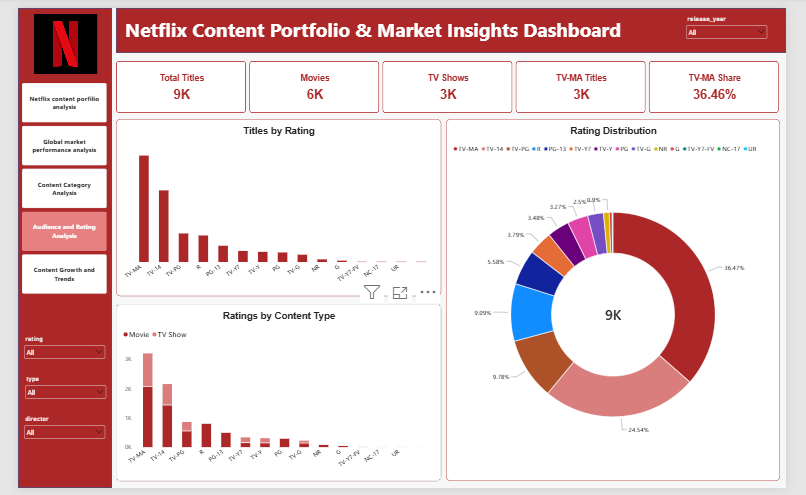

What the dashboard file says about the page in this screenshot:
{"tool":"powerbi","page":{"name":"Audience and Rating Analysis","canvas":[1920,1200],"ordinal":3},"visuals":[{"type":"shape","box":[245,0,1675,112.5],"z":0},{"type":"shape","box":[0,0,235,1200],"z":1000},{"type":"cardVisual","fields":{"Data":["Netflix Titles.Total Titles","Netflix Titles.Movies","Netflix Titles.TV Shows","Netflix Titles.TV-MA Titles","Netflix Titles.TV-MA Share"]},"box":[245,132.5,1660,130],"z":2000},{"type":"columnChart","title":"Titles by Rating","fields":{"Category":["Netflix Titles.rating"],"Y":["Netflix Titles.Total Titles"]},"box":[245,277.5,812.5,442.5],"z":3000},{"type":"donutChart","title":"Rating Distribution","fields":{"Category":["Netflix Titles.rating"],"Y":["Netflix Titles.Total Titles"]},"box":[1070,277.5,835,905],"z":4000},{"type":"columnChart","title":"Ratings by Content Type","fields":{"Category":["Netflix Titles.rating"],"Series":["Netflix Titles.type"],"Y":["Netflix Titles.Total Titles"]},"box":[245,740,812.5,442.5],"z":5000},{"type":"textbox","box":[267.5,20,1367.5,75],"z":6000},{"type":"pageNavigator","box":[10,187.5,212.5,530],"z":7000},{"type":"image","box":[40,15,157.5,150],"z":8000},{"type":"slicer","fields":{"Values":["Netflix Titles.rating"]},"box":[10,817.5,212.5,72.5],"z":9000},{"type":"slicer","fields":{"Values":["Netflix Titles.type"]},"box":[12.5,917.5,212.5,72.5],"z":10000},{"type":"slicer","fields":{"Values":["Netflix Titles.director"]},"box":[10,1017.5,212.5,72.5],"z":11000},{"type":"slicer","fields":{"Values":["Netflix Titles.release_year"]},"box":[1665,17.5,212.5,72.5],"z":12000}]}

Visuals, with their boxes on the page's 1920x1200 design canvas (x1, y1, x2, y2). These are canvas units, not pixel positions in the 806x495 screenshot, which may show the page scaled, cropped or inside an application window:
shape: (245,0,1920,112)
shape: (0,0,235,1200)
cardVisual - Netflix Titles.Total Titles x Netflix Titles.Movies: (245,132,1905,262)
"Titles by Rating" columnChart: (245,278,1058,720)
"Rating Distribution" donutChart: (1070,278,1905,1182)
"Ratings by Content Type" columnChart: (245,740,1058,1182)
textbox: (268,20,1635,95)
pageNavigator: (10,188,222,718)
image: (40,15,198,165)
slicer - Netflix Titles.rating: (10,818,222,890)
slicer - Netflix Titles.type: (12,918,225,990)
slicer - Netflix Titles.director: (10,1018,222,1090)
slicer - Netflix Titles.release_year: (1665,18,1878,90)
